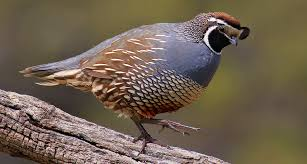Walking: (8, 5, 266, 155)
